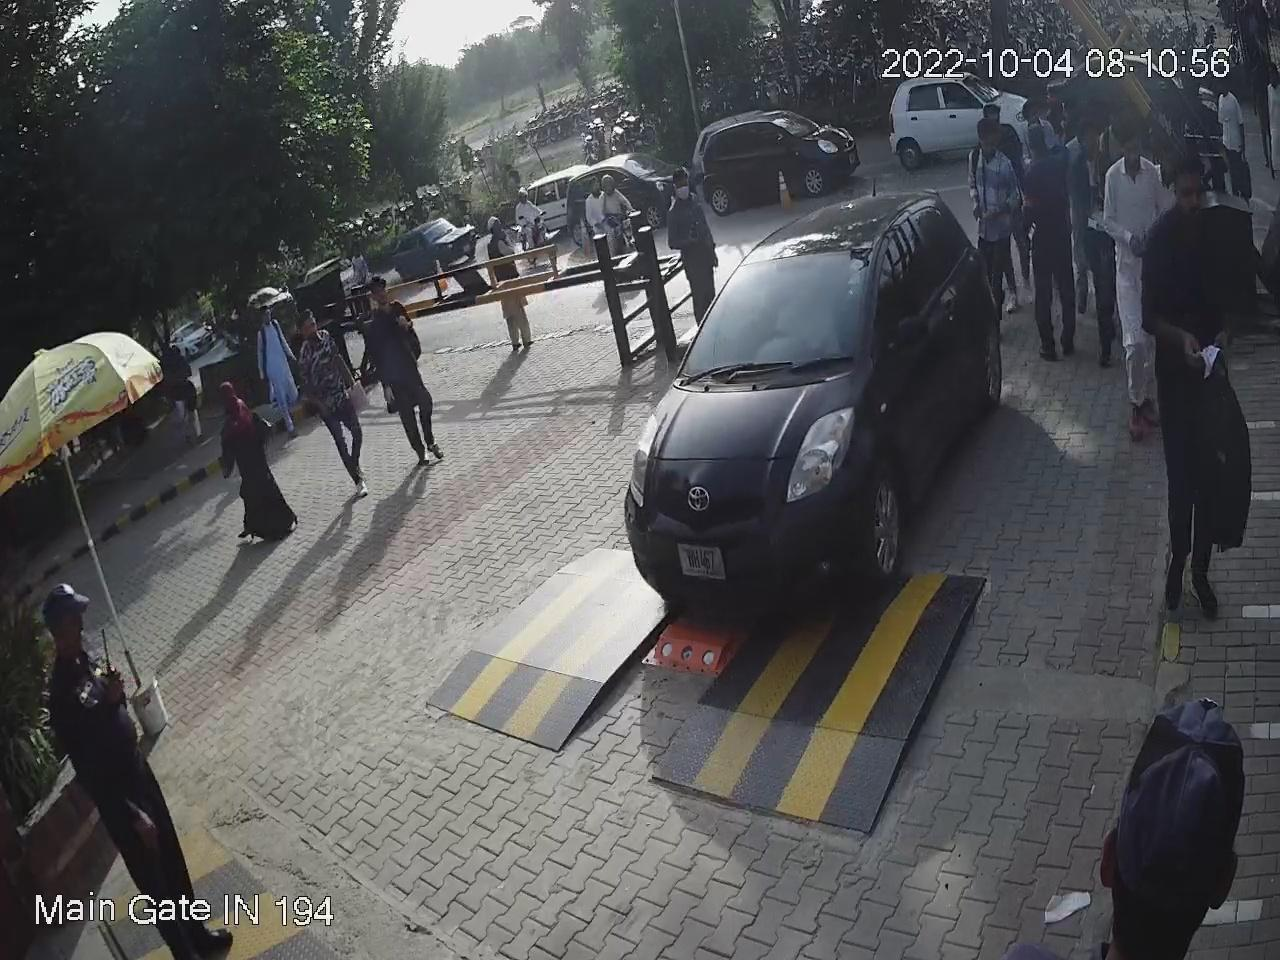windshield: (680, 238, 866, 385)
